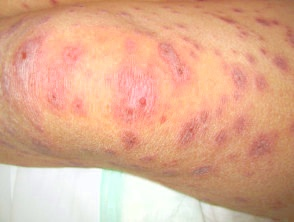SJS-TEN: (1, 10, 292, 185)
